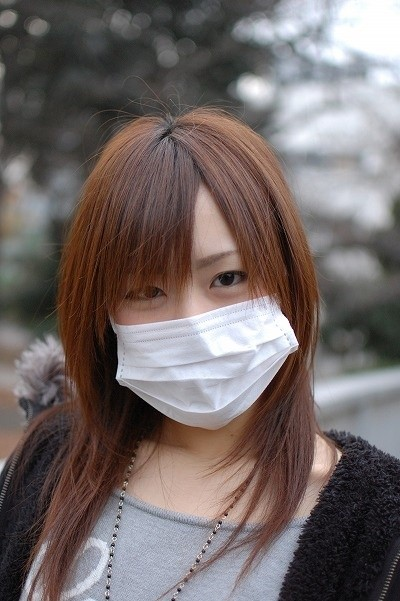face_with_mask: (91, 158, 316, 447)
